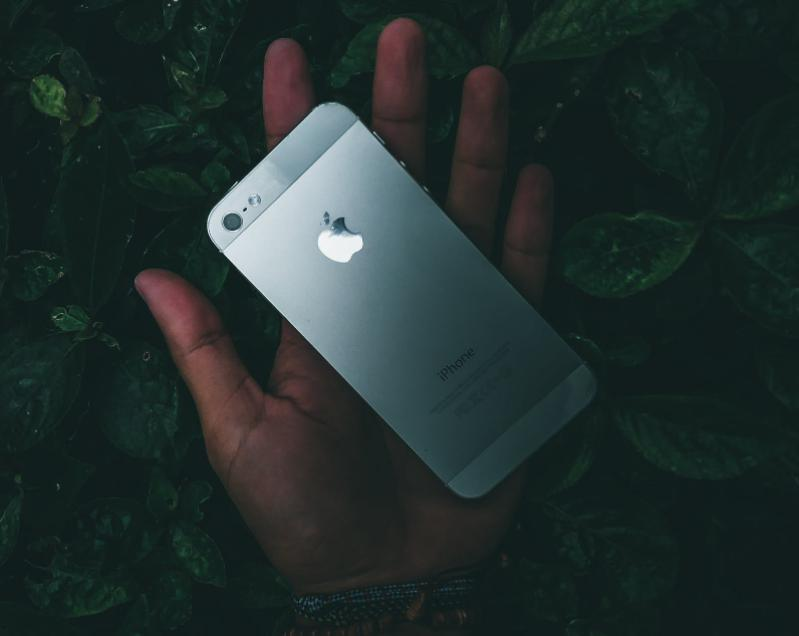mobile: (204, 102, 600, 500)
